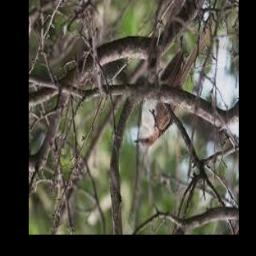Cuckoo: (135, 25, 214, 148)
